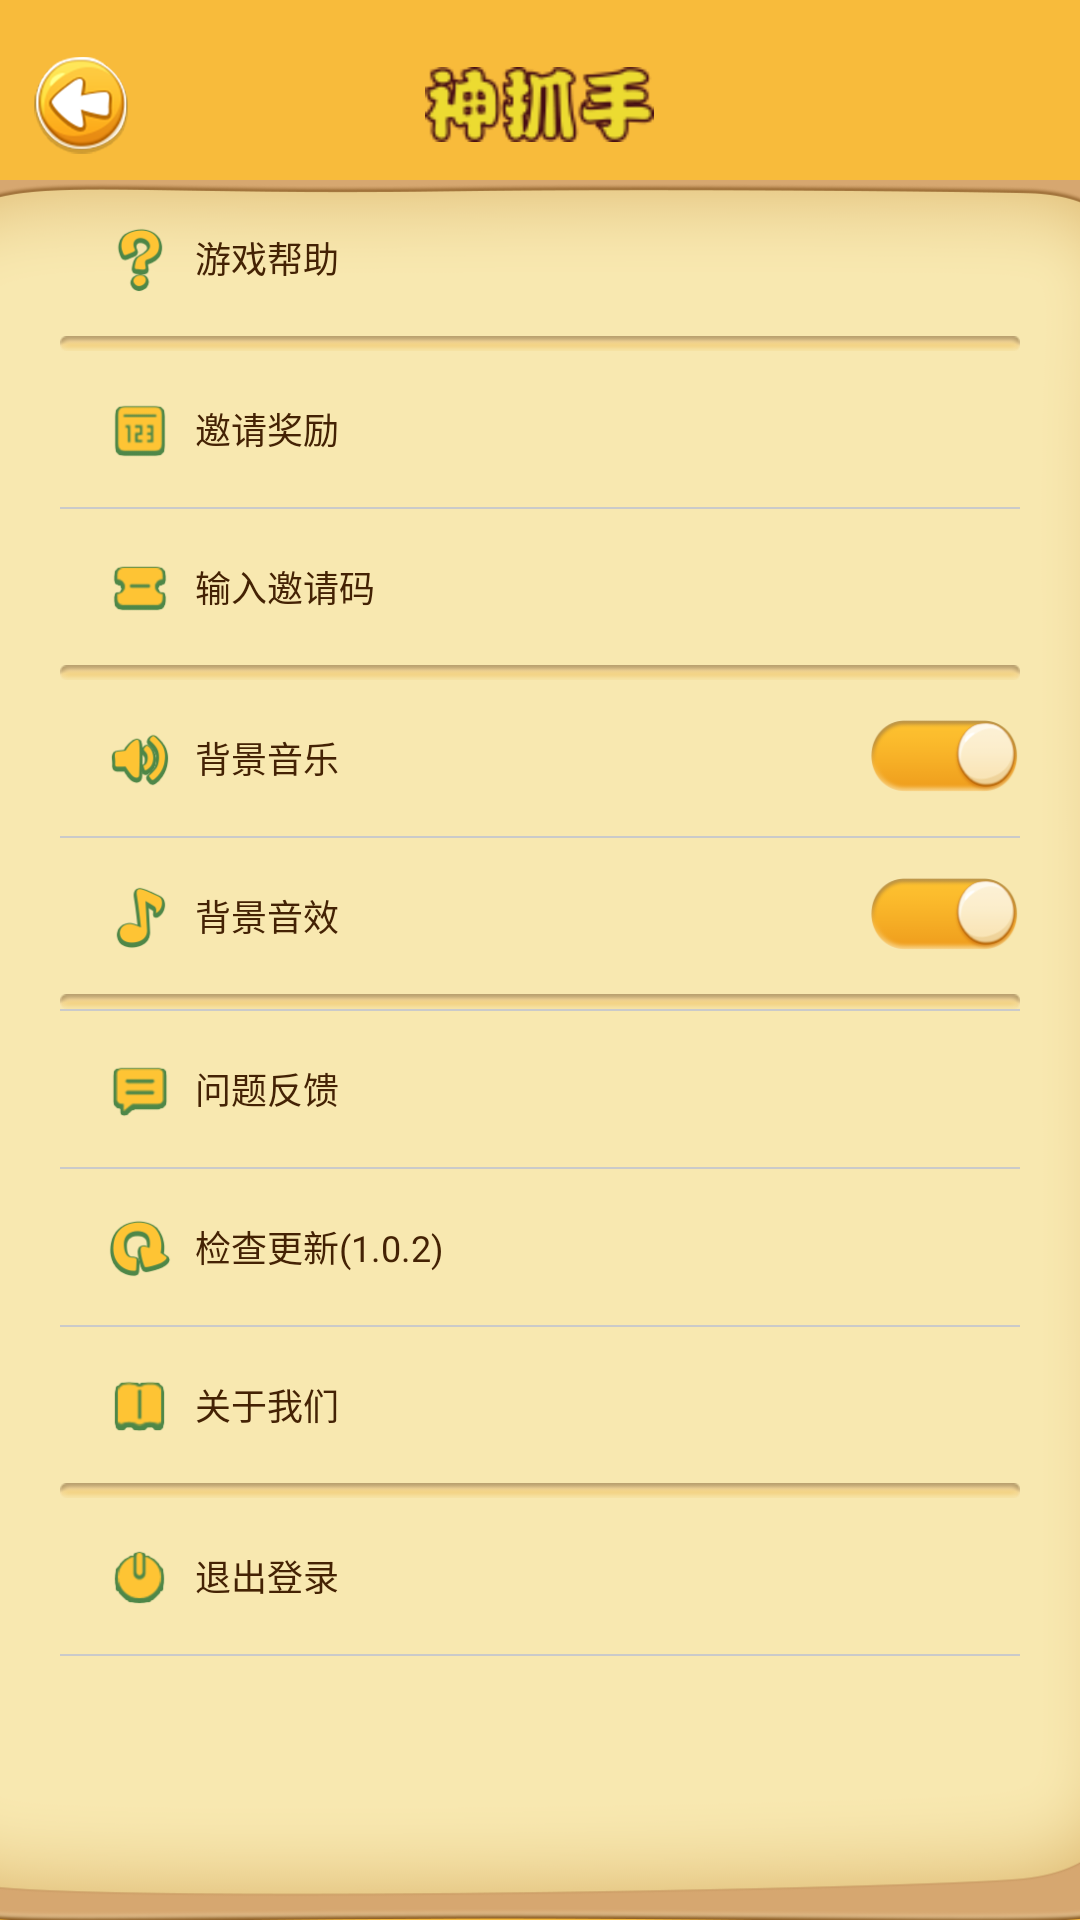

Icon click points for this 1080×1920 phone screenshot, format [x,y]:
check open: [944,755], [944,913]
player back: [81,105]
set about: [139,1406]
set feedback: [140,1091]
set help: [140,260]
set update: [140,1248]
